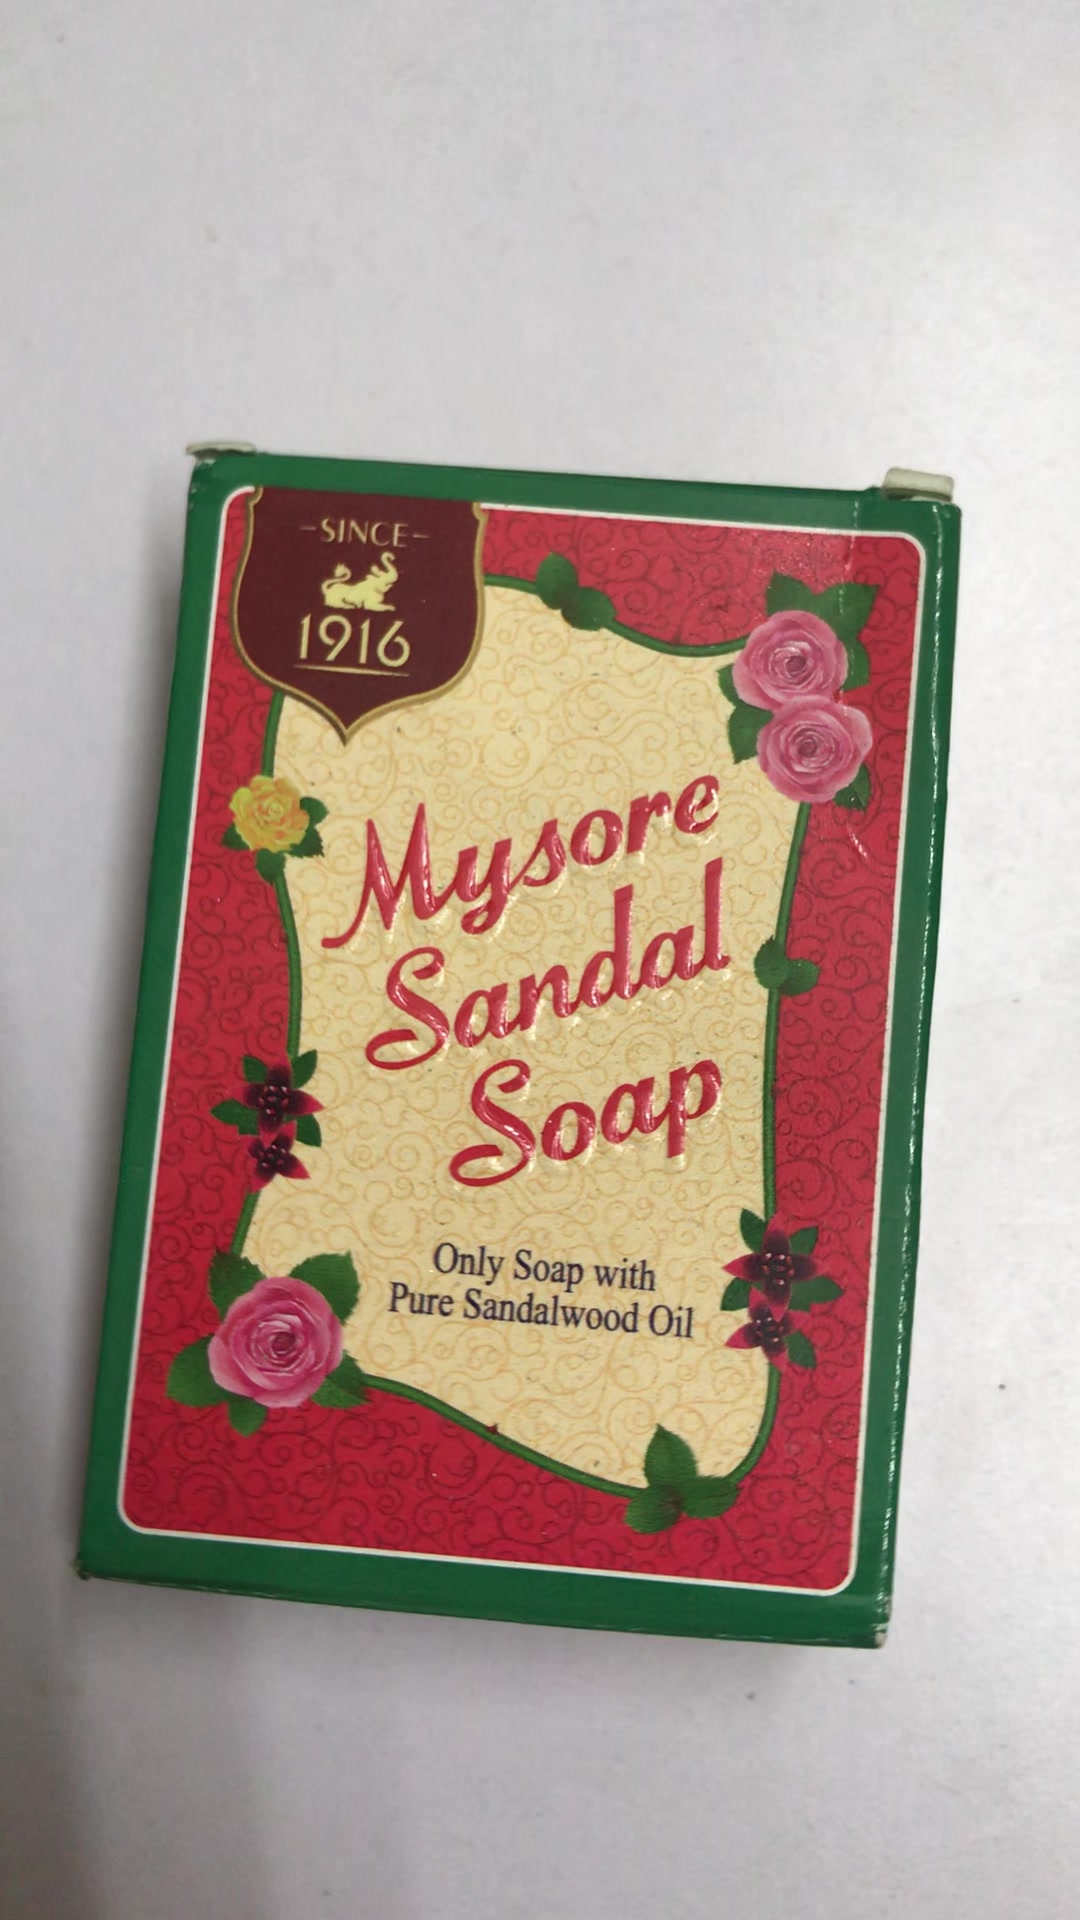mysore sandal soap: (78, 452, 968, 1656)
